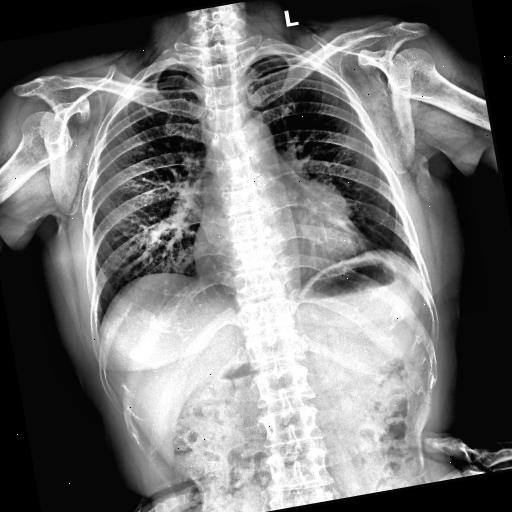3- Cardiomegaly: (190, 210, 378, 306), (186, 204, 374, 294), (188, 196, 370, 282)
7- Lung Opacity: (300, 176, 346, 218)
8- Nodule-Mass: (288, 174, 354, 248)
